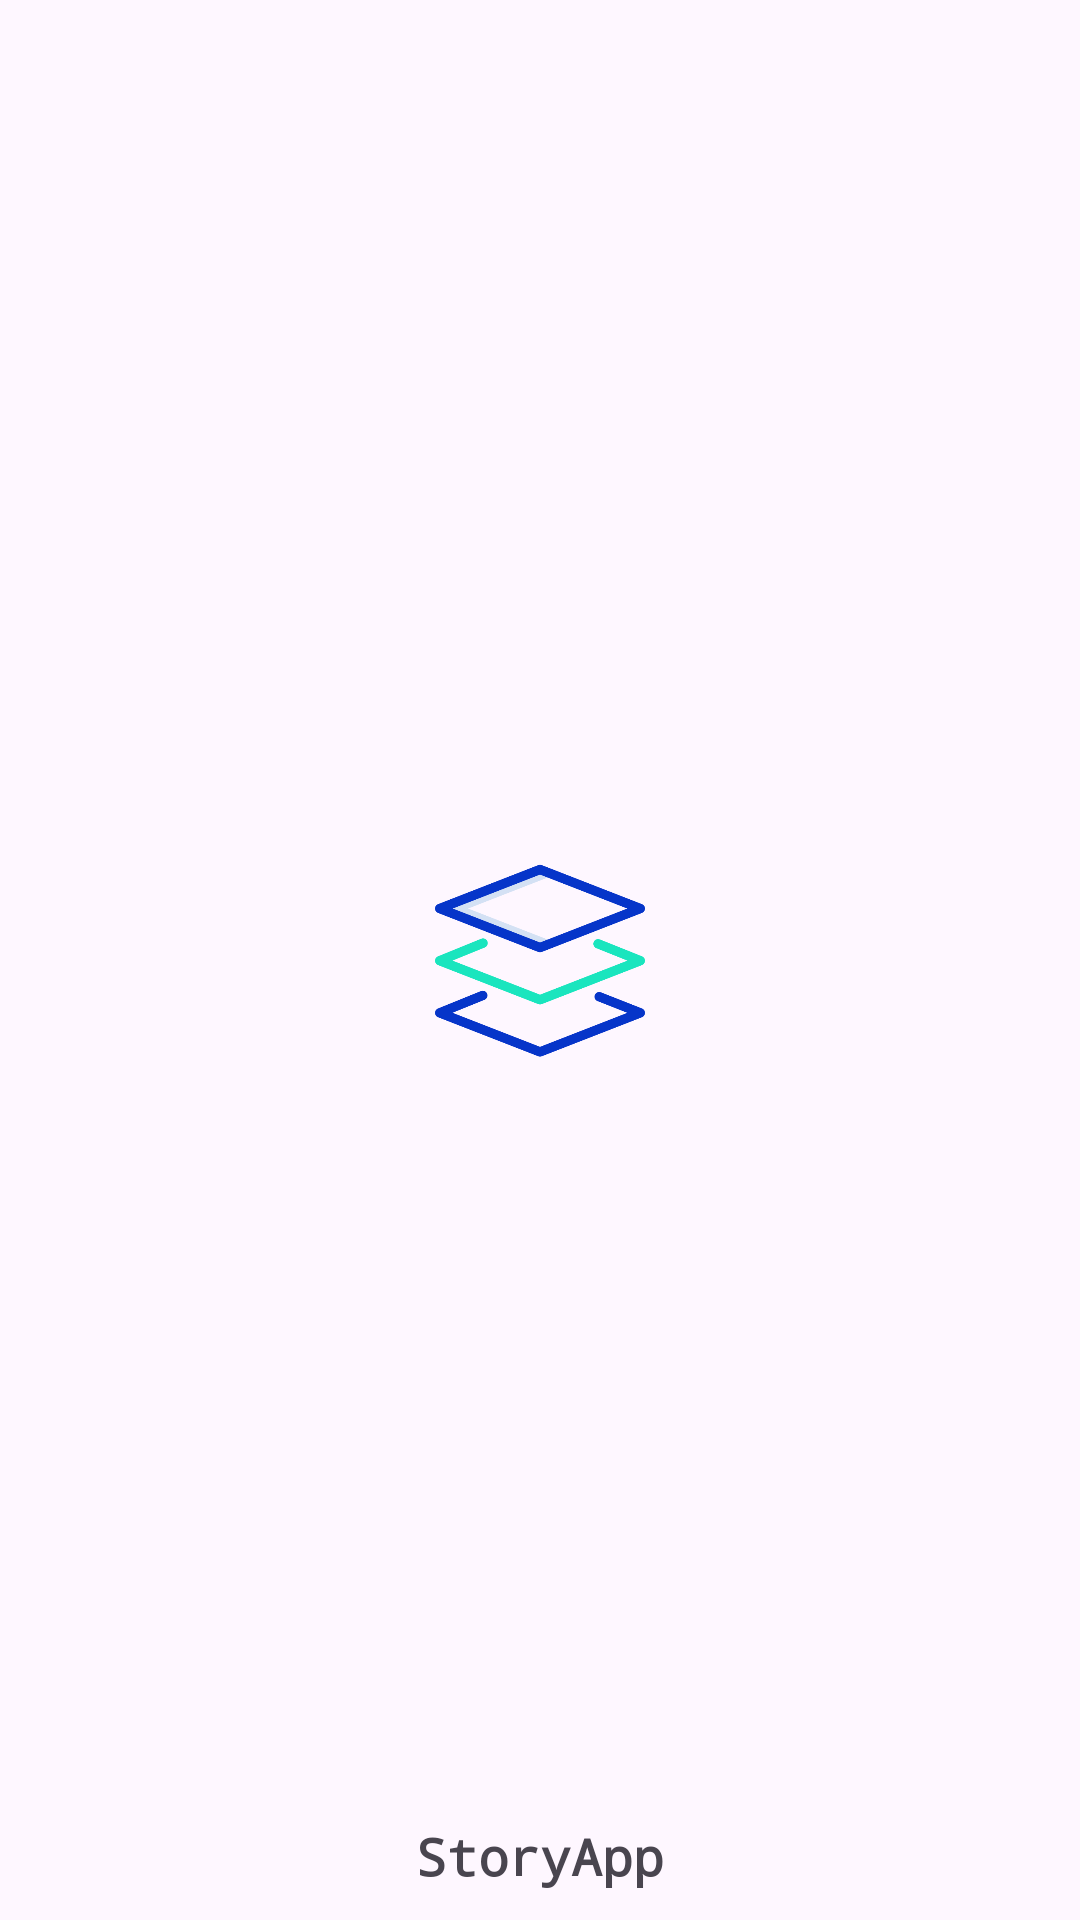

Icons on this 1080x1920 Android screen, each with its box as (x1, y1, x2, y2):
layers: (435, 865, 645, 1057)
